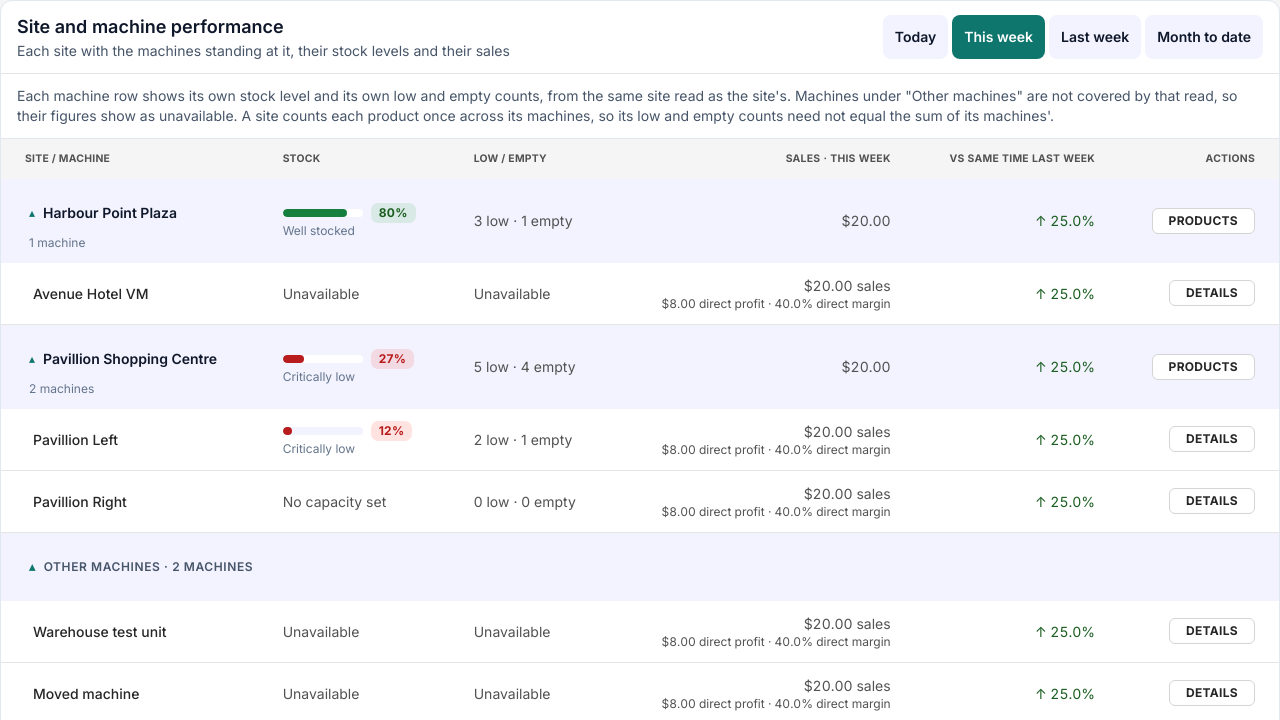
Scenario: Site and machine performance shared period controls (issue #987) › shows $0.00 for a period with no sales and Unavailable for a withheld figure
The image size is (1280, 720).
Click the button "Month to date" at (1204, 37), box [1145, 15, 1263, 59]
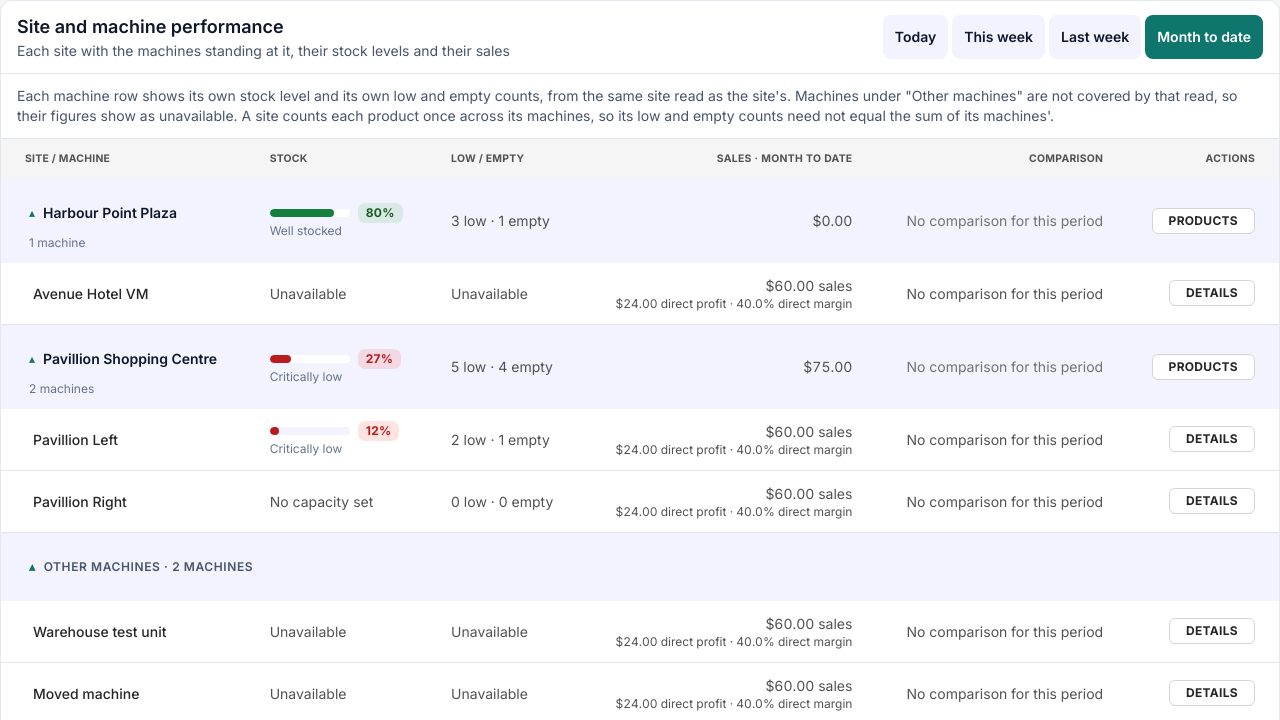
Now the row with test id "site-row-1" shows "$0.00", box [812, 212, 852, 229]
Click the button "Last week" at (1095, 37), box [1049, 15, 1141, 59]
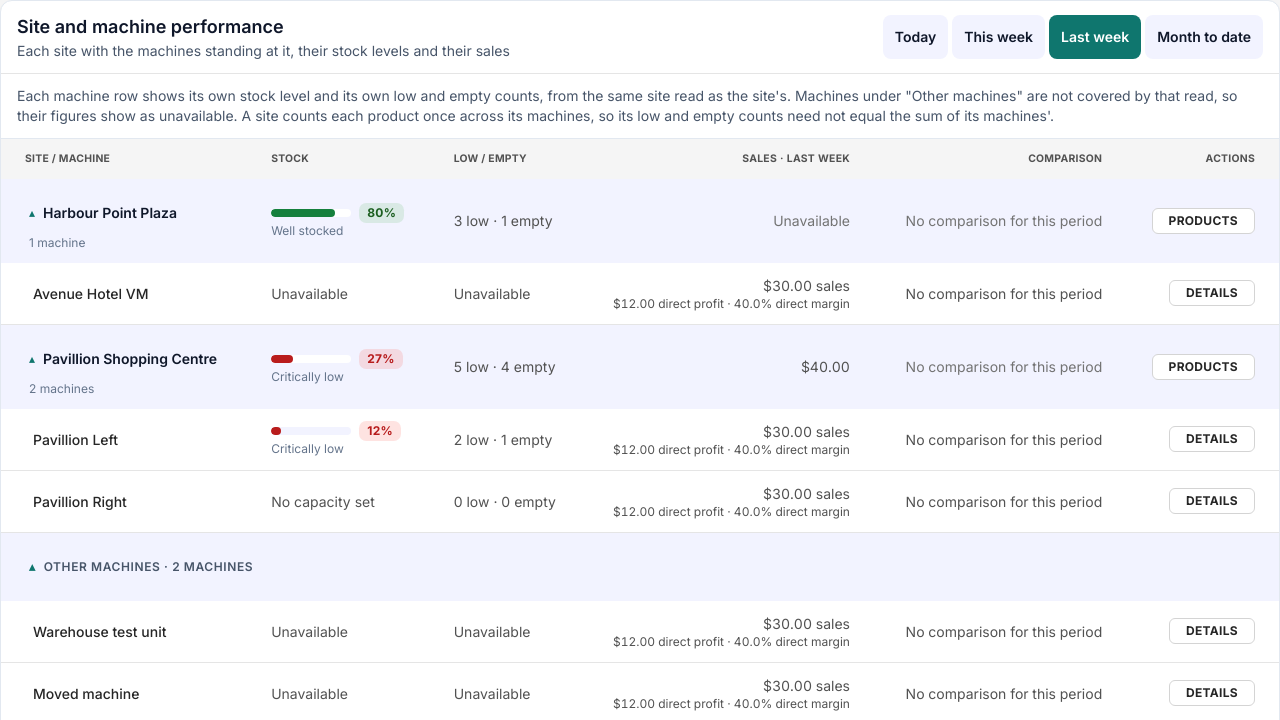
Now the row with test id "site-row-1" shows "Unavailable", box [773, 212, 850, 229]
Now the cell with test id "site-row-1" no longer shows "$0.00"
